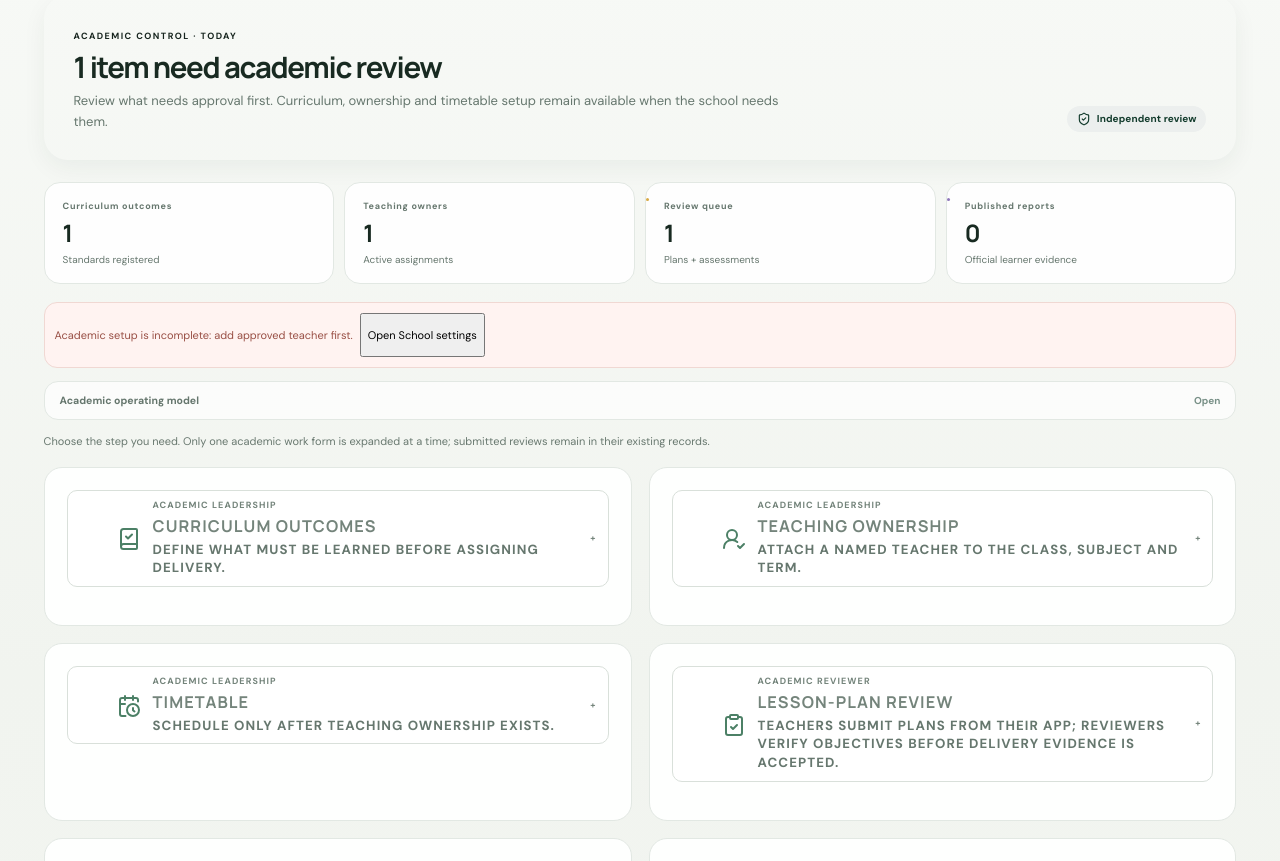
Test: Academic task journey › opens only the academic stage chosen by the reviewer
What coordinates should you click on to do the following:
click the button with aria-label "Open Curriculum outcomes"
I would click on:
 (338, 538)
Its box is [66,490,608,587].
(page scrolled)
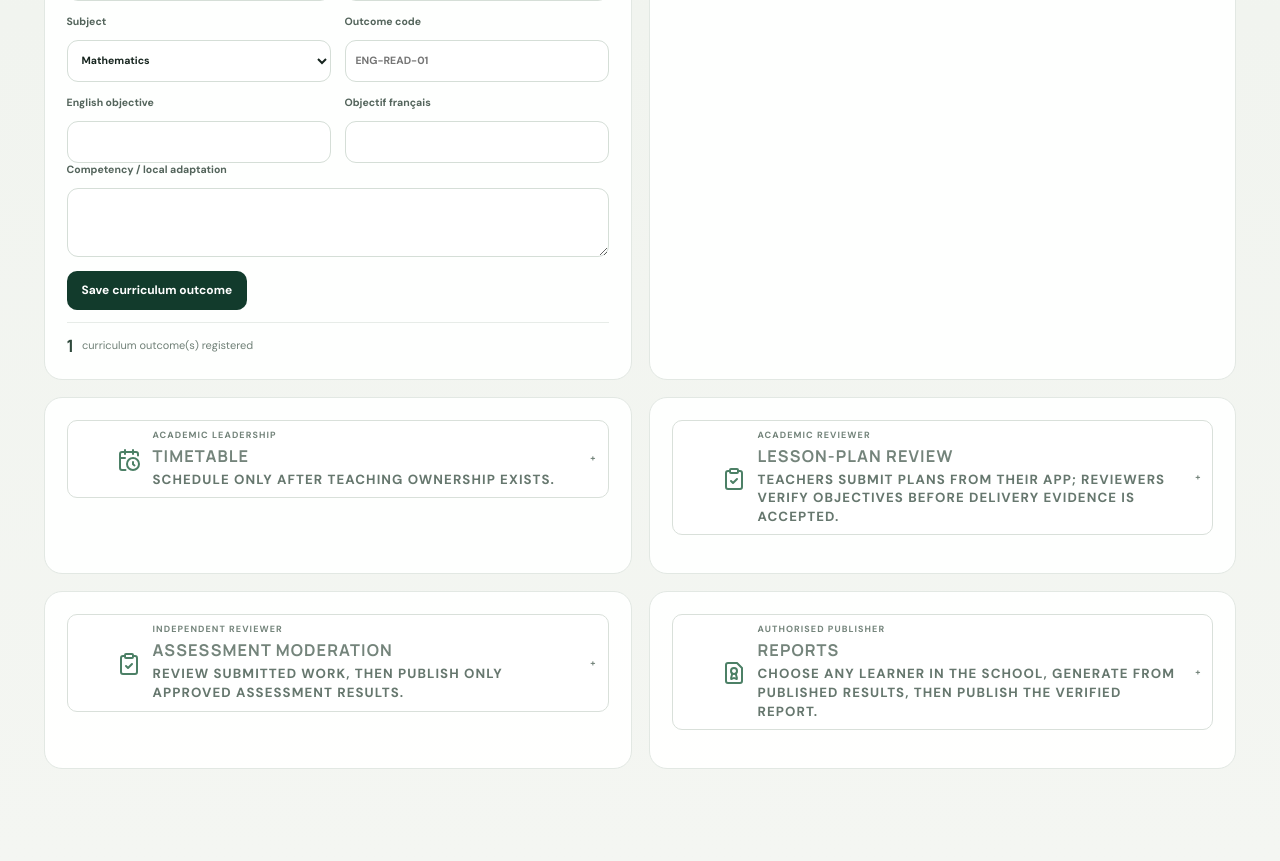
Now the button "Save curriculum outcome" is shown, box [66,271,247,310]
What coordinates should you click on to do the following:
click the button with aria-label "Open Timetable"
I would click on:
 (215, 435)
Its box is [66,420,608,498].
(page scrolled)
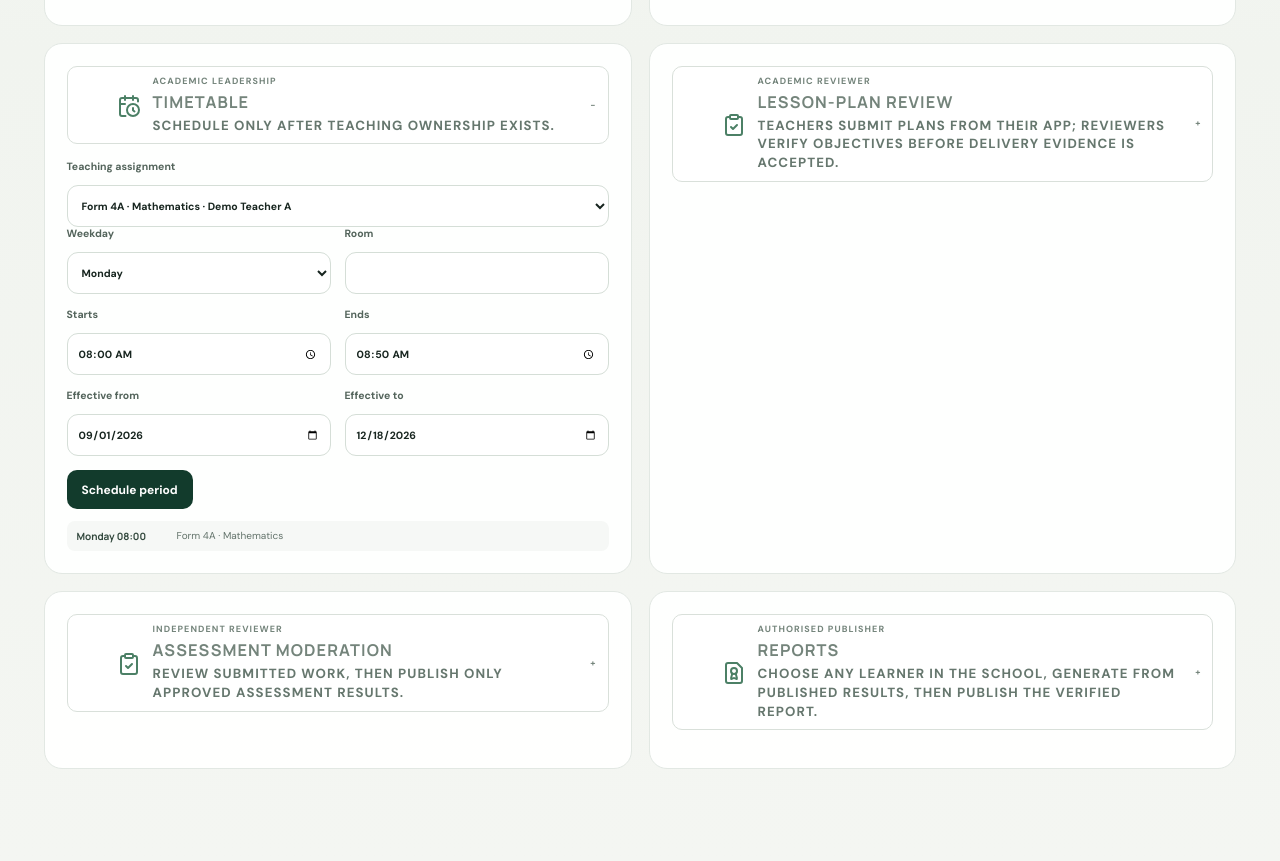
Now the button "Schedule period" is shown, box [66,470,193,510]
Now the button "Save curriculum outcome" is gone
